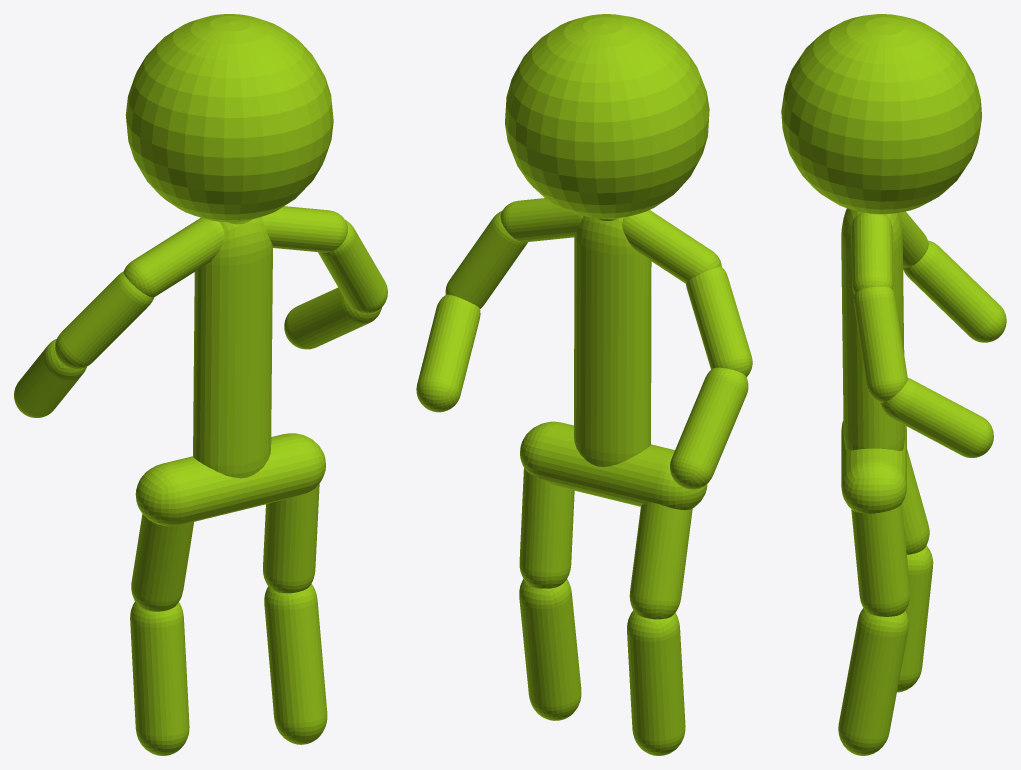
The model's file is Stickman_000019.obj.
The picture shows the model from 3 angles, left to right: view 1: azimuth 30°, elevation 25°; view 2: azimuth 150°, elevation 25°; view 3: azimuth 270°, elevation 25°; orthographic projection. The views are drawn at different scales.
Visible parts, largest first — view 1: Head_Sphere.001, Body_Roundcube.002, Hip_Roundcube.005, LowerLegLeft_Roundcube.013, LowerLegRight_Roundcube.011, UpperLegLeft_Roundcube.012, UpperLegRight_Roundcube.010, UpperArmRight_Roundcube.015, ShoulderRight_Roundcube.014, UpperArmLeft_Roundcube.018, LowerArmLeft_Roundcube.019, ShoulderLeft_Roundcube.017 (+1 smaller); view 2: Head_Sphere.001, Body_Roundcube.002, Hip_Roundcube.005, LowerLegRight_Roundcube.011, LowerLegLeft_Roundcube.013, UpperLegRight_Roundcube.010, LowerArmRight_Roundcube.016, UpperLegLeft_Roundcube.012, LowerArmLeft_Roundcube.019, UpperArmRight_Roundcube.015, ShoulderRight_Roundcube.014, UpperArmLeft_Roundcube.018 (+1 smaller); view 3: Head_Sphere.001, LowerLegLeft_Roundcube.013, Body_Roundcube.002, UpperLegLeft_Roundcube.012, LowerArmRight_Roundcube.016, LowerArmLeft_Roundcube.019, UpperArmLeft_Roundcube.018, Hip_Roundcube.005, ShoulderLeft_Roundcube.017, LowerLegRight_Roundcube.011, UpperLegRight_Roundcube.010, UpperArmRight_Roundcube.015.
Part boxes in pixels (bbox=[...]): Head_Sphere.001: bbox=[125, 14, 333, 222]; Body_Roundcube.002: bbox=[193, 216, 272, 478]; Hip_Roundcube.005: bbox=[135, 433, 325, 526]; LowerLegLeft_Roundcube.013: bbox=[264, 584, 327, 744]; LowerLegRight_Roundcube.011: bbox=[130, 601, 189, 755]; UpperLegLeft_Roundcube.012: bbox=[263, 483, 319, 593]; UpperLegRight_Roundcube.010: bbox=[131, 514, 193, 611]; UpperArmRight_Roundcube.015: bbox=[55, 271, 154, 369]; ShoulderRight_Roundcube.014: bbox=[123, 218, 224, 297]; UpperArmLeft_Roundcube.018: bbox=[318, 220, 387, 313]; LowerArmLeft_Roundcube.019: bbox=[284, 287, 381, 349]; ShoulderLeft_Roundcube.017: bbox=[262, 206, 347, 252]; Head_Sphere.001: bbox=[505, 14, 709, 218]; Body_Roundcube.002: bbox=[574, 216, 651, 466]; Hip_Roundcube.005: bbox=[520, 421, 707, 510]; LowerLegRight_Roundcube.011: bbox=[627, 610, 685, 755]; LowerLegLeft_Roundcube.013: bbox=[519, 579, 581, 720]; UpperLegRight_Roundcube.010: bbox=[629, 502, 692, 619]; LowerArmRight_Roundcube.016: bbox=[670, 367, 748, 489]; UpperLegLeft_Roundcube.012: bbox=[519, 468, 574, 588]; LowerArmLeft_Roundcube.019: bbox=[416, 294, 480, 412]; UpperArmRight_Roundcube.015: bbox=[686, 266, 752, 377]; ShoulderRight_Roundcube.014: bbox=[622, 210, 721, 283]; UpperArmLeft_Roundcube.018: bbox=[445, 211, 527, 308]; Head_Sphere.001: bbox=[781, 14, 981, 214]; LowerLegLeft_Roundcube.013: bbox=[838, 608, 908, 755]; Body_Roundcube.002: bbox=[841, 208, 905, 450]; UpperLegLeft_Roundcube.012: bbox=[851, 504, 910, 616]; LowerArmRight_Roundcube.016: bbox=[903, 240, 1006, 342]; LowerArmLeft_Roundcube.019: bbox=[880, 378, 993, 457]; UpperArmLeft_Roundcube.018: bbox=[853, 286, 907, 402]; Hip_Roundcube.005: bbox=[841, 421, 906, 513]; ShoulderLeft_Roundcube.017: bbox=[851, 212, 893, 294]; LowerLegRight_Roundcube.011: bbox=[897, 545, 933, 692]; UpperLegRight_Roundcube.010: bbox=[902, 449, 929, 554]; UpperArmRight_Roundcube.015: bbox=[898, 211, 928, 267].
Size of the model in its own units: 4.93 by 10.63 by 3.1.
